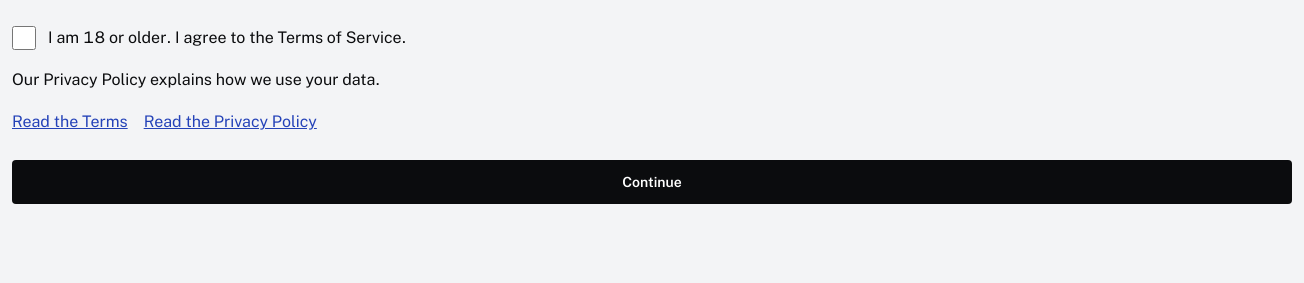
Test case: agreement forms and sheets › X2 agree action error: We could not save this. Please try again.
Click the checkbox labelled "I am 18 or older. I agree to the Terms of Service.".
click(24, 38)  # box [12, 26, 36, 50]
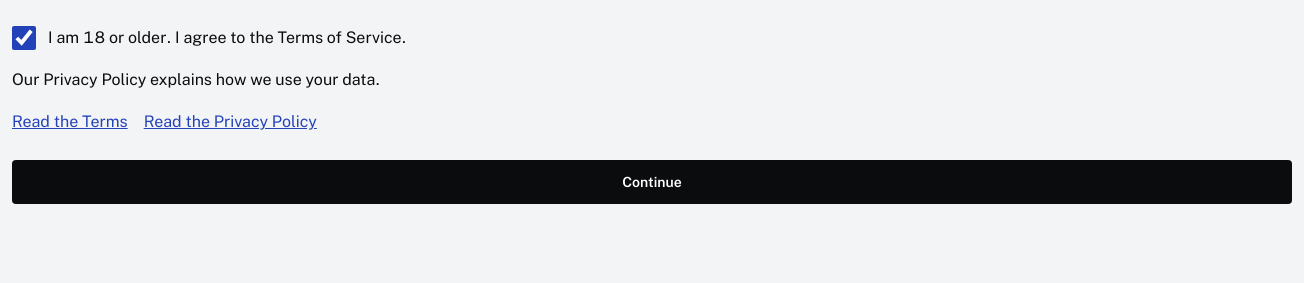
Submit the form named "Continue"
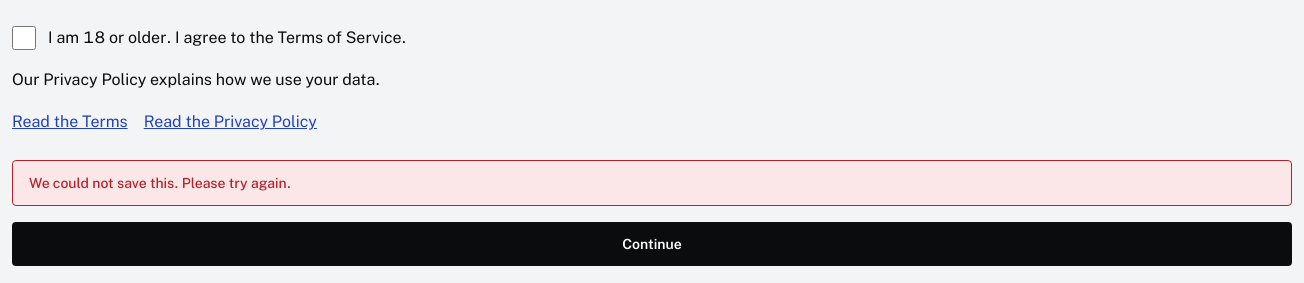
Now the message reads "We could not save this. Please try again.", box [29, 175, 291, 191]
